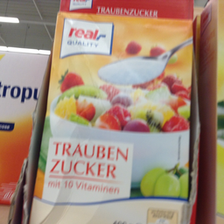sugar: (28, 2, 193, 224)
